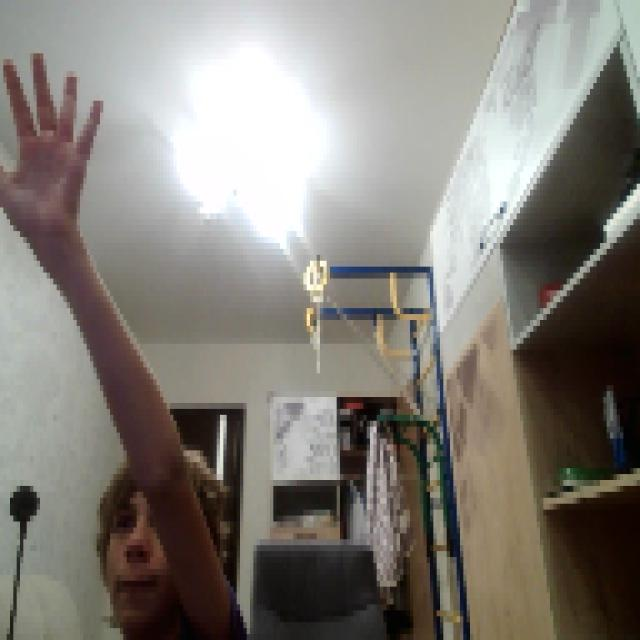hand: (0, 41, 100, 243)
